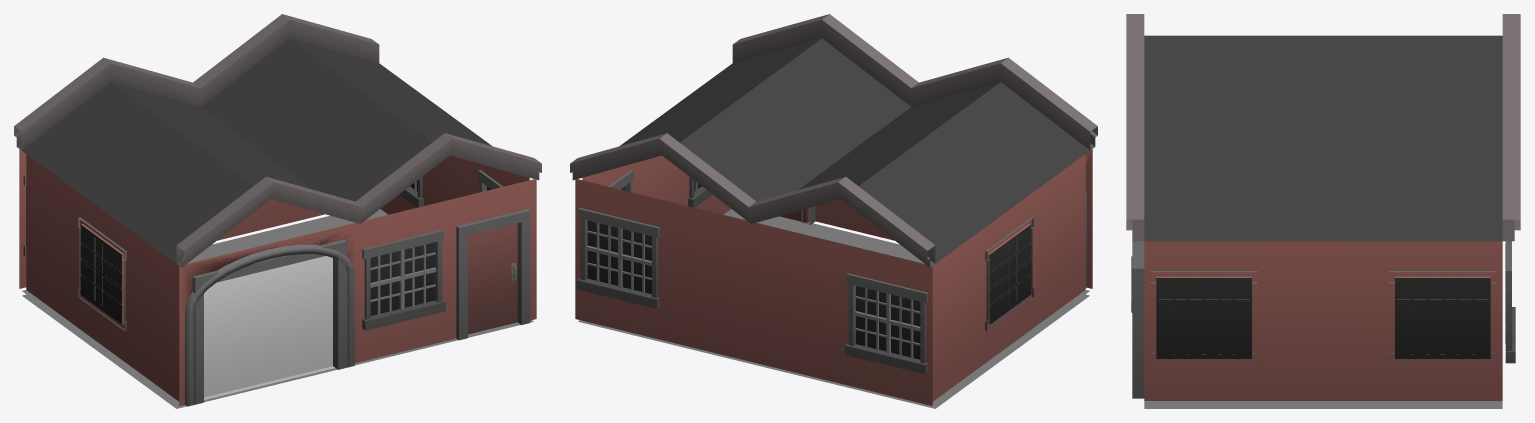
The model's file is turbine-workshop.glb.
3 views of the same model, side by side, from view 1: azimuth 30°, elevation 25°; view 2: azimuth 150°, elevation 25°; view 3: azimuth 270°, elevation 25° (orthographic). The views are drawn at different scales.
Parts seen in each view (by area): view 1: TreyIndustrialTurbineWorkshopVisual; view 2: TreyIndustrialTurbineWorkshopVisual; view 3: TreyIndustrialTurbineWorkshopVisual.
Part boxes in pixels (x1=…): TreyIndustrialTurbineWorkshopVisual: x1=14, y1=14, x2=541, y2=408; TreyIndustrialTurbineWorkshopVisual: x1=570, y1=14, x2=1097, y2=408; TreyIndustrialTurbineWorkshopVisual: x1=1126, y1=14, x2=1520, y2=408.
Bounding box in the file's own units: 8 × 4.5 × 6.6.
1 material, 1 textured.
